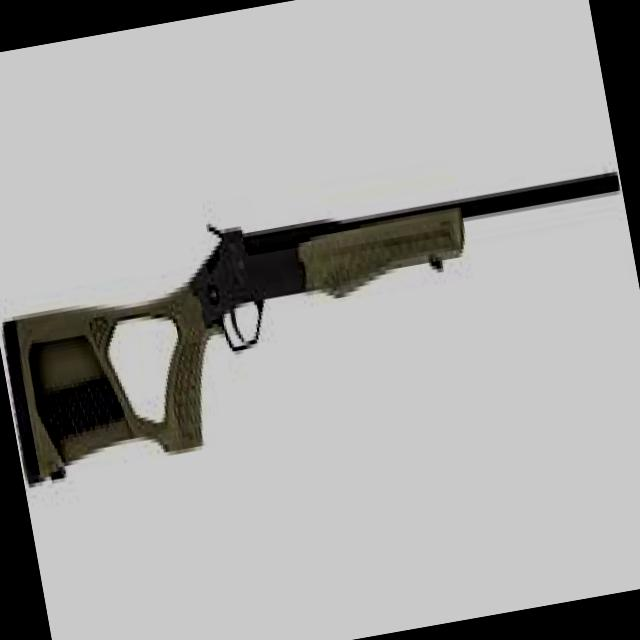long weapon: (0, 149, 634, 500)
